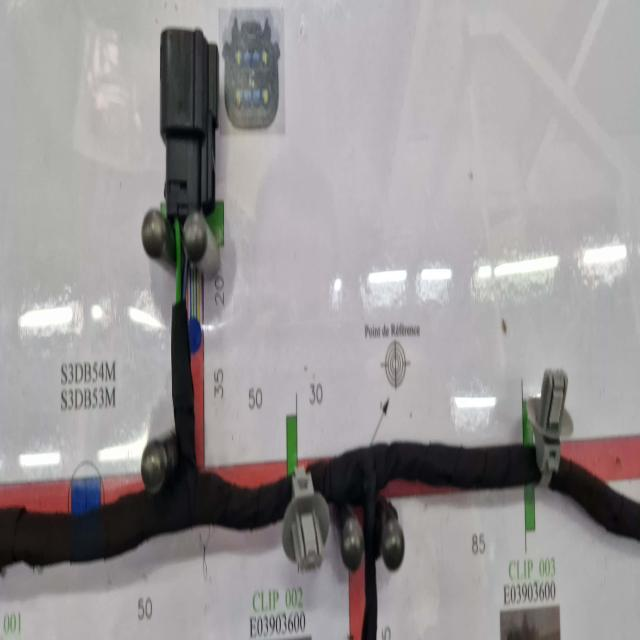Clip: (526, 365, 576, 487), (280, 458, 330, 571)
Connector: (157, 21, 220, 230)
Gape: (167, 201, 193, 316)
MHEV_N11_Cable: (0, 301, 290, 570), (310, 442, 538, 640), (550, 459, 640, 540)
